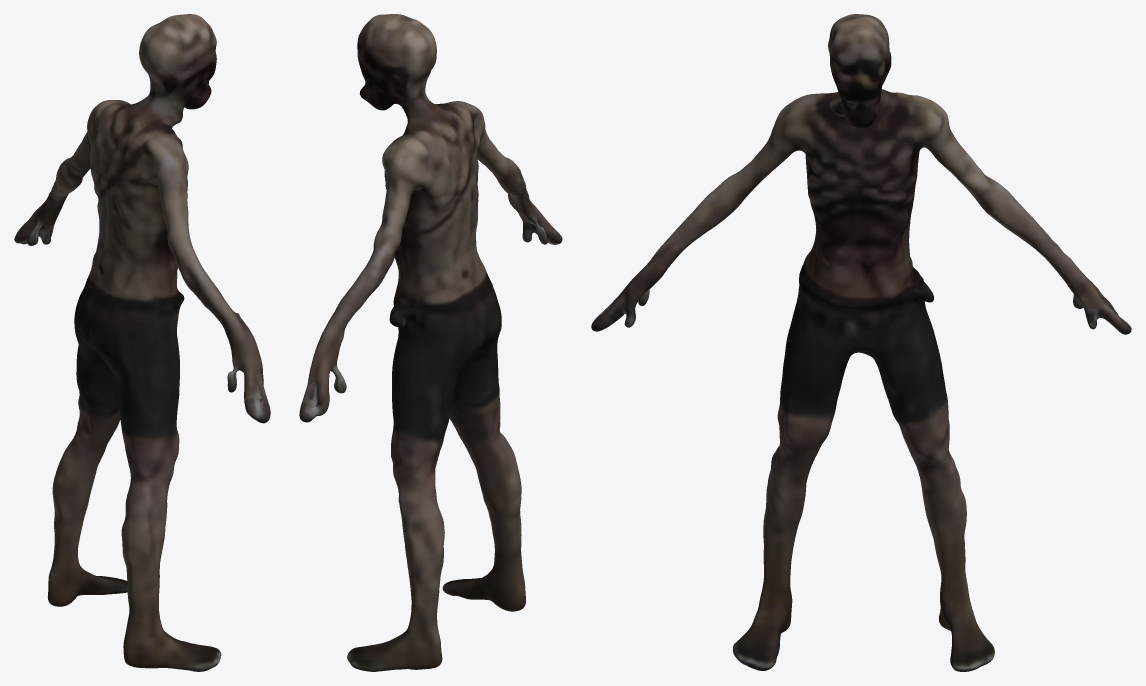
File: Zombie_Demo_Creeper.glb
3 views of the same model, side by side, from view 1: azimuth 30°, elevation 25°; view 2: azimuth 150°, elevation 25°; view 3: azimuth 270°, elevation 25° (orthographic). The views are drawn at different scales.
Parts seen in each view (by area): view 1: world; view 2: world; view 3: world.
Boxes of the visible parts, x1,y1,x2,y2 form: world: [14, 14, 270, 671]; world: [299, 14, 562, 671]; world: [591, 14, 1131, 671].
Size of the model in its own units: 0.1258 by 0.5704 by 0.4244.
Materials: 1 (1 with a texture image).
